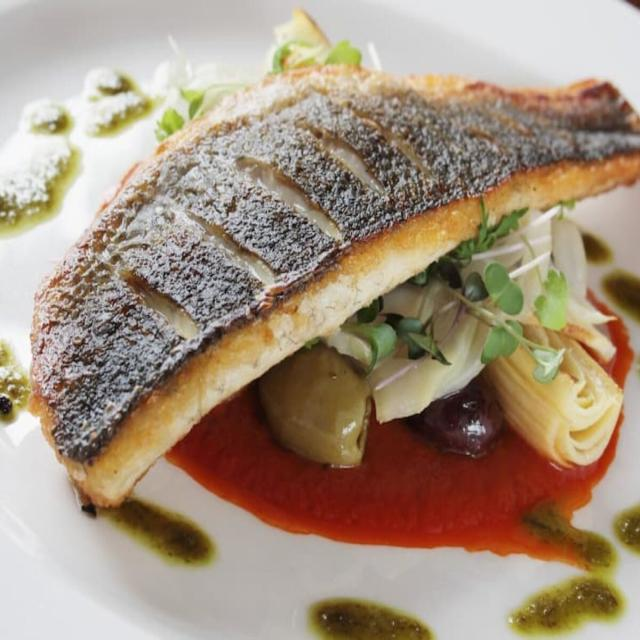pescado: (24, 34, 624, 511)
